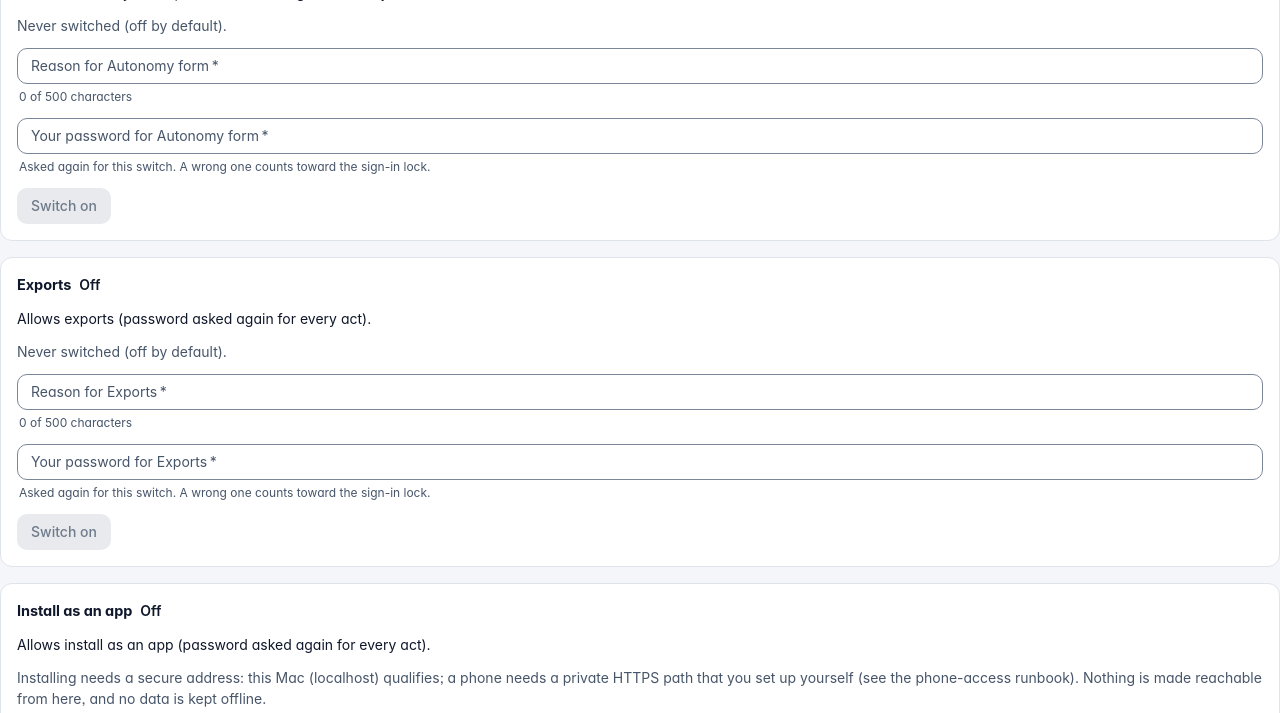
Test case: Owner-act switches › switches on with the password, sends reason and password, and clears the password
(page scrolled)
Check: the heading "Exports" is shown, box left=17, top=274, right=71, bottom=296
Type "I want to export my notes" into the field labelled "Reason for Exports *".
click(640, 392); type("I want to export my notes")  # box left=17, top=374, right=1263, bottom=410
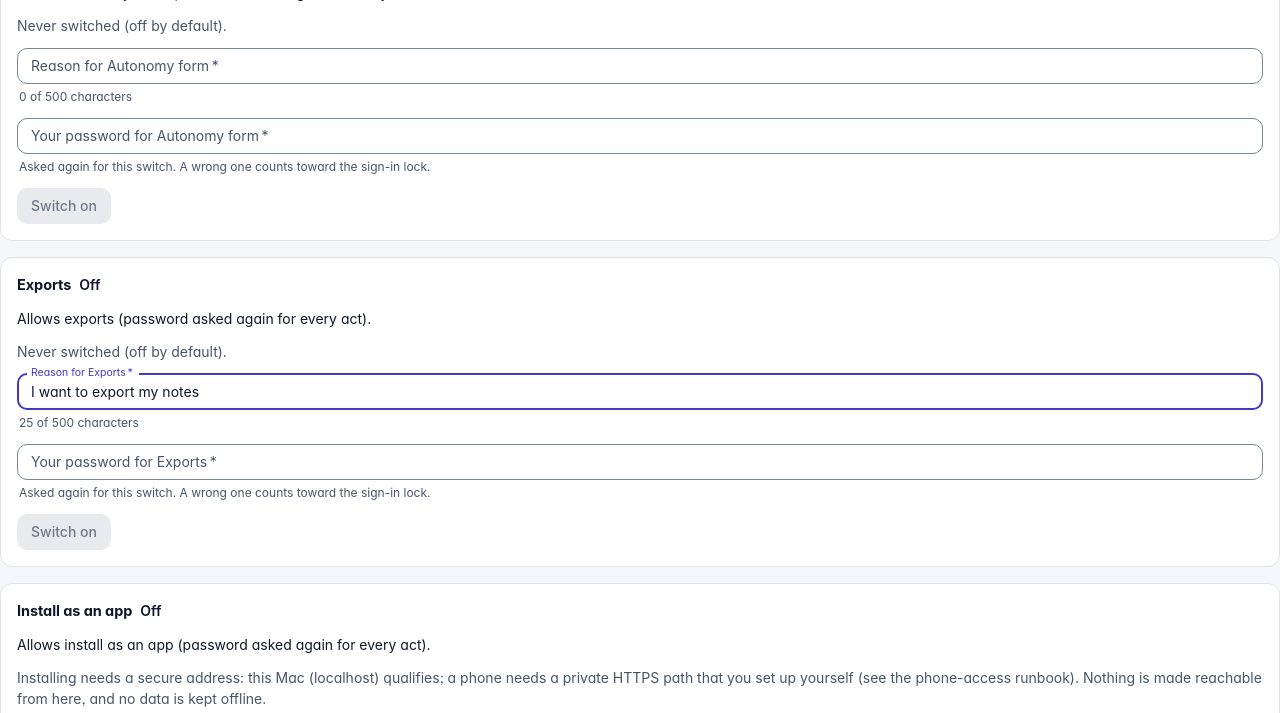
Type "correct-horse" into the password field labelled "Your password for Exports *".
click(640, 462); type("correct-horse")  # box left=17, top=444, right=1263, bottom=480
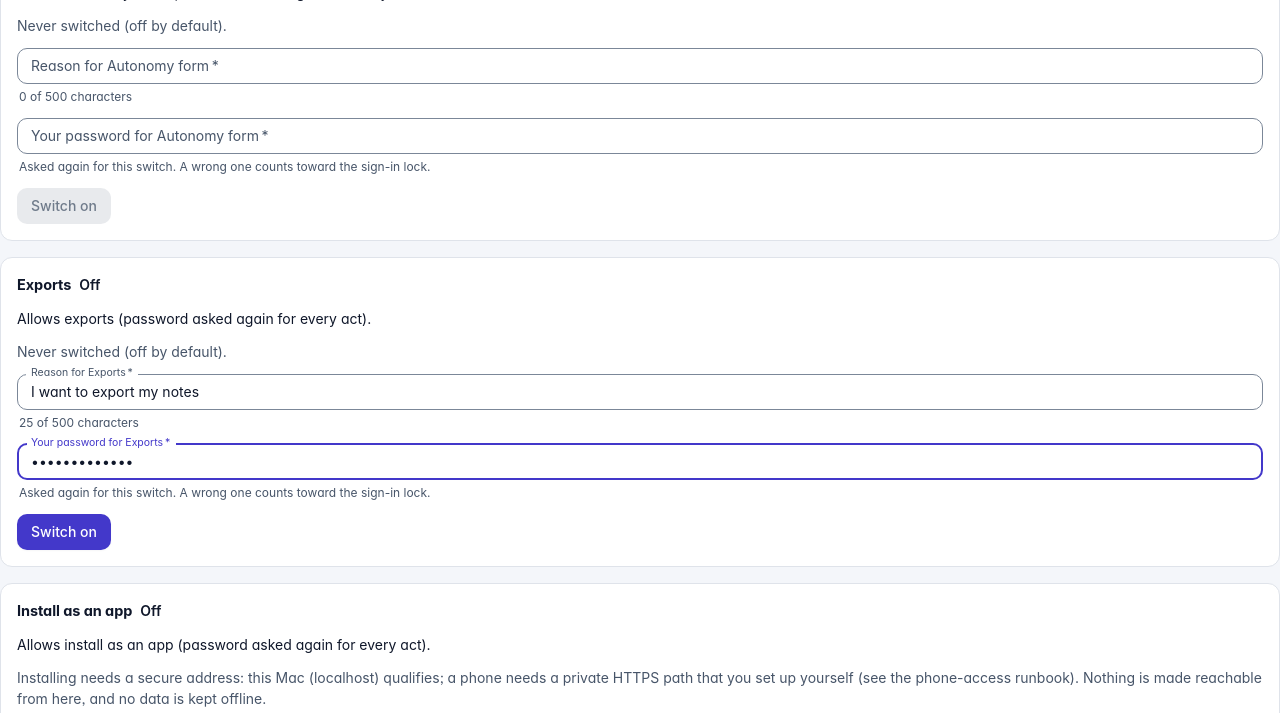
Check: the button with aria-label "Switch on Exports" is enabled
Click the button with aria-label "Switch on Exports".
click(64, 532)  # box left=17, top=514, right=111, bottom=550
(page scrolled)
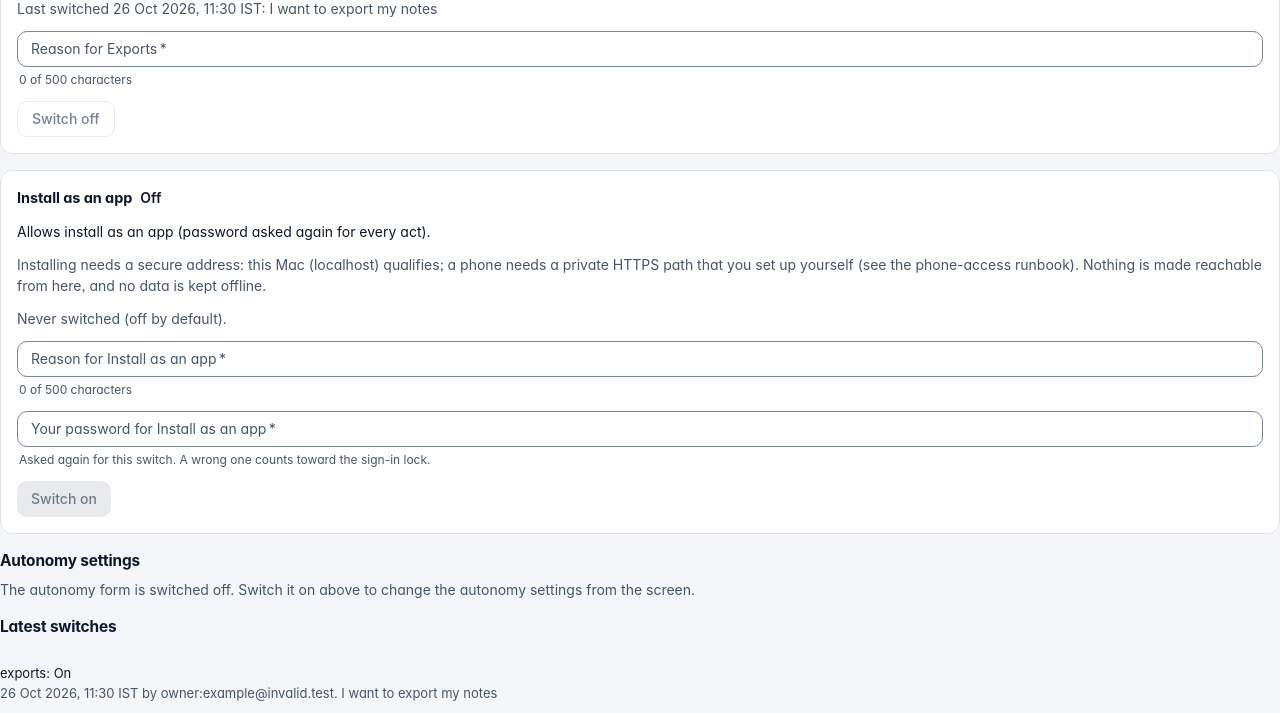
Check: the button with aria-label "Switch off Exports" is disabled, box left=17, top=101, right=115, bottom=137
Check: the text "by owner:example@invalid.test. I want to export my notes" is shown, box left=0, top=684, right=497, bottom=700
